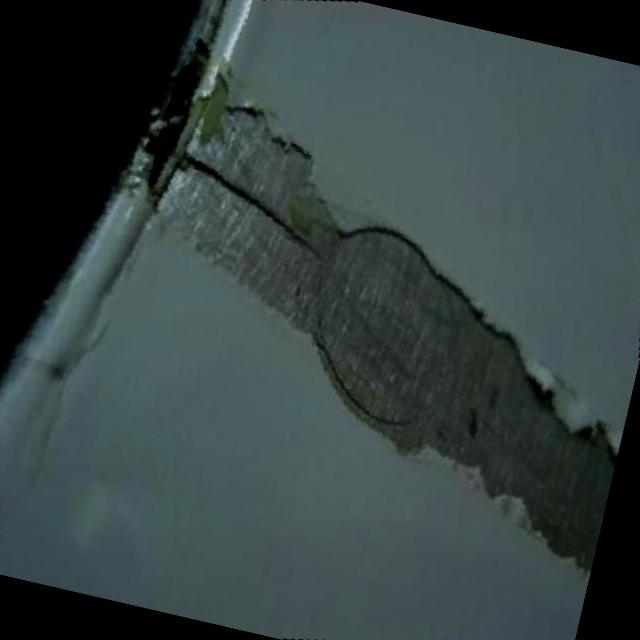crack: (242, 198, 326, 252), (176, 153, 253, 195)
